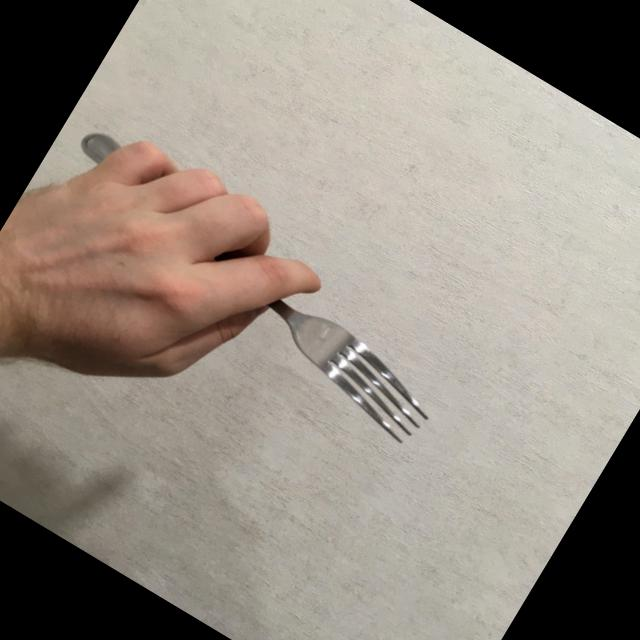fork: (31, 124, 469, 454)
